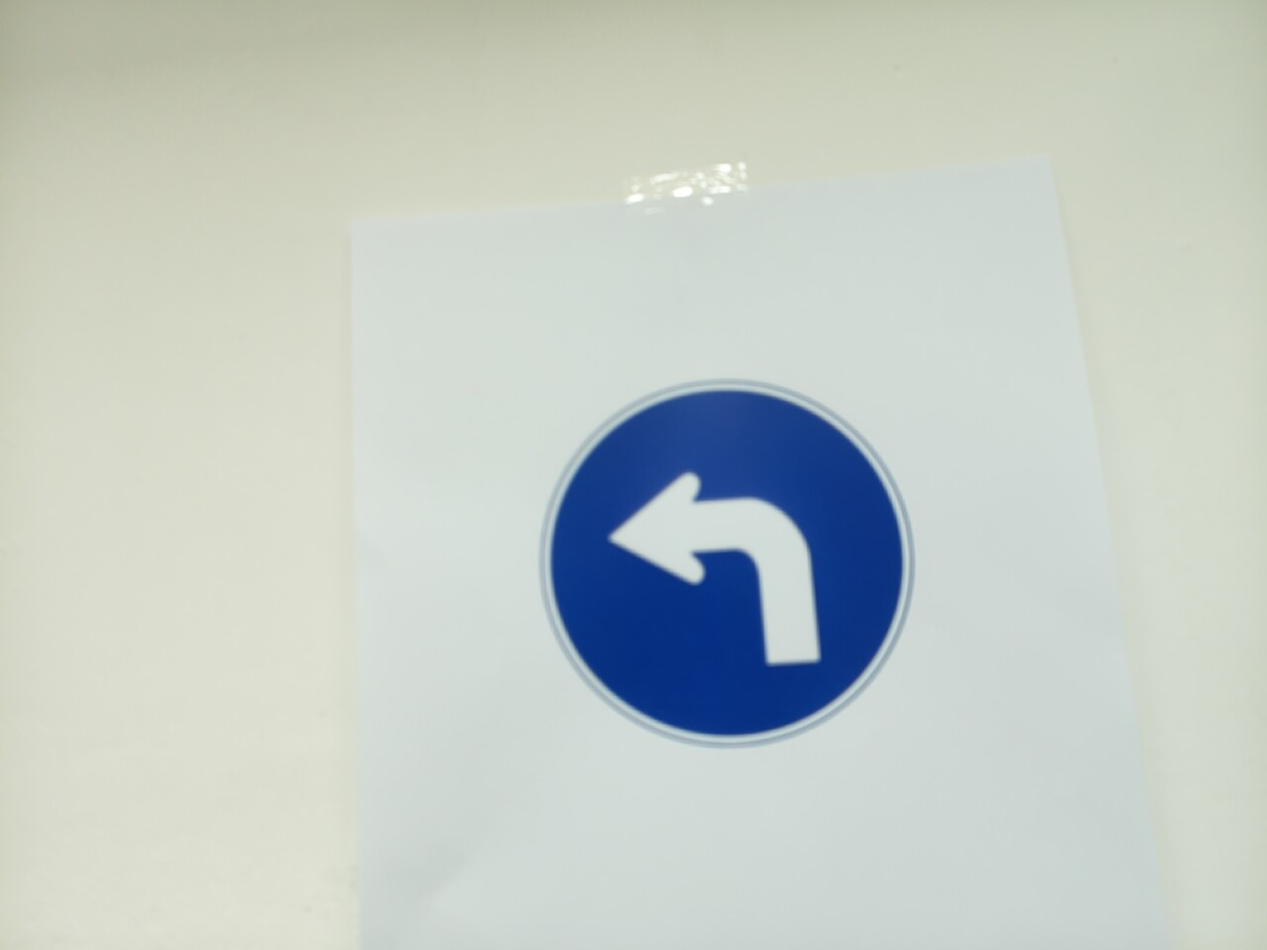left_turn: (539, 379, 914, 747)
